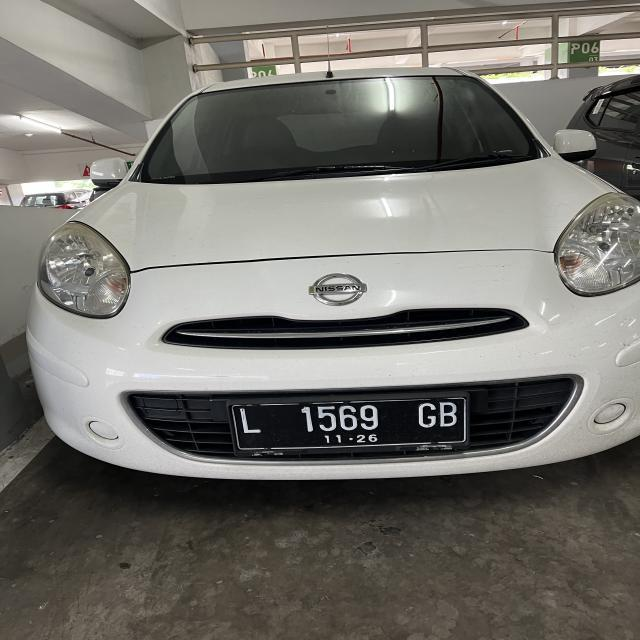1: (296, 406, 316, 434)
5: (318, 406, 337, 432)
6: (339, 402, 358, 432)
9: (360, 403, 382, 431)
B: (440, 400, 458, 428)
G: (415, 402, 437, 430)
L: (233, 404, 263, 438)
